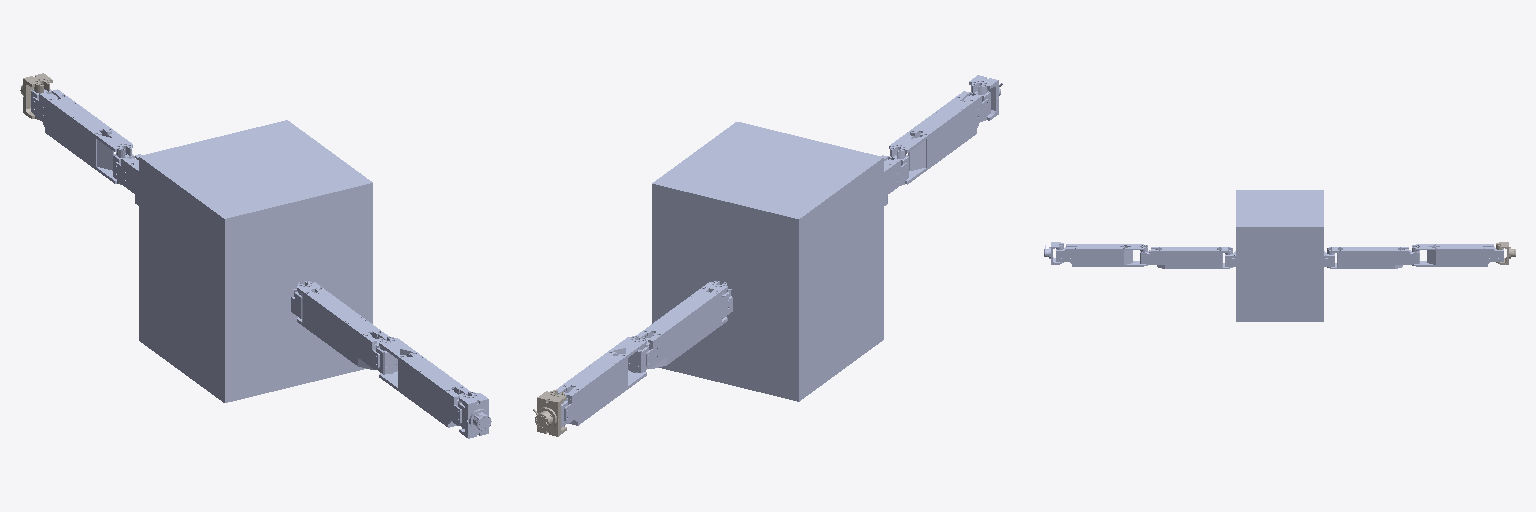
The robot description file, URDF, robot "PFR_Arm2":
<?xml version="1.0" encoding="utf-8"?>
<!-- This URDF was automatically created by SolidWorks to URDF Exporter! Originally created by Stephen Brawner (brawner@gmail.com) 
     Commit Version: 1.6.0-4-g7f85cfe  Build Version: 1.6.7995.38578
     For more information, please see http://wiki.ros.org/sw_urdf_exporter -->
<robot
  name="PFR_Arm2">
  <link
    name="world" />
  <joint
    name="world_to_base"
    type="floating">
    <origin
      xyz="0 0 0"
      rpy="0 0 0" />
    <parent
      link="world" />
    <child
      link="base_link" />
  </joint>
  <link
    name="base_link">
  <inertial>
    <origin
      xyz="2.67023784161503E-17 1.38748955932851E-17 0.185886916570362"
      rpy="0 0 0" />

    <mass
      value="9.4" />

    <inertia
      ixx="0.184014"
      ixy="-4.733E-14"
      ixz="-1.276E-18"
      iyy="0.183998"
      iyz="9.548E-22"
      izz="0.153096" />
  </inertial>
    <visual>
      <origin
        xyz="0 0 0"
        rpy="0 0 0" />
      <geometry>
        <mesh
          filename="package://PFR_Arm2/meshes/base_link.STL" />
      </geometry>
      <material
        name="">
        <color
          rgba="0.792156862745098 0.819607843137255 0.933333333333333 1" />
      </material>
    </visual>
    <collision>
      <origin
        xyz="0 0 0"
        rpy="0 0 0" />
      <geometry>
        <mesh
          filename="package://PFR_Arm2/meshes/base_link.STL" />
      </geometry>
    </collision>
  </link>
  <link
    name="joint1_R">
<inertial>
  <origin
    xyz="-9.31857326154312E-11 -0.195378541069816 0.00672546665364099"
    rpy="0 0 0" />
  <mass
    value="0.610933607210843" />
  <inertia
    ixx="0.002606149973"
    ixy="-8.759503414E-12"
    ixz="2.079170554E-12"
    iyy="0.000290799751"
    iyz="2.796985513E-05"
    izz="0.002521988319" />
</inertial>
    <visual>
      <origin
        xyz="0 0 0"
        rpy="0 0 0" />
      <geometry>
        <mesh
          filename="package://PFR_Arm2/meshes/Joint1_R.STL" />
      </geometry>
      <material
        name="">
        <color
          rgba="0.792156862745098 0.819607843137255 0.933333333333333 1" />
      </material>
    </visual>
    <collision>
      <origin
        xyz="0 0 0"
        rpy="0 0 0" />
      <geometry>
        <mesh
          filename="package://PFR_Arm2/meshes/Joint1_R.STL" />
      </geometry>
    </collision>
  </link>
  <joint
    name="joint1_R"
    type="revolute">
    <origin
      xyz="0 -0.18175 0.174"
      rpy="0 0 0" />
    <parent
      link="base_link" />
    <child
      link="joint1_R" />
    <axis
      xyz="0 0 -1" />
    <limit
      lower="-1.57079632679"
      upper="1.57079632679"
      effort="10"
      velocity="10" />
    <dynamics
      damping="0.02" />
  </joint>
  <link
    name="joint2_R">
  <inertial>
    <origin
      xyz="-8.81578836366647E-10 -0.205753132187302 0.00699863753540647"
      rpy="0 0 0" />
    <mass
      value="0.524093067317941" />
    <inertia
      ixx="0.002262706481047"
      ixy="5.393149924E-11"
      ixz="1.328143582E-11"
      iyy="0.000266808394608"
      iyz="-5.951057304E-06"
      izz="0.002161333435478" />
  </inertial>
    <visual>
      <origin
        xyz="0 0 0"
        rpy="0 0 0" />
      <geometry>
        <mesh
          filename="package://PFR_Arm2/meshes/Joint2_R.STL" />
      </geometry>
      <material
        name="">
        <color
          rgba="0.792156862745098 0.819607843137255 0.933333333333333 1" />
      </material>
    </visual>
    <collision>
      <origin
        xyz="0 0 0"
        rpy="0 0 0" />
      <geometry>
        <mesh
          filename="package://PFR_Arm2/meshes/Joint2_R.STL" />
      </geometry>
    </collision>
  </link>
  <joint
    name="joint2_R"
    type="revolute">
    <origin
      xyz="0 -0.3 0.00950000000000006"
      rpy="0 0 0" />
    <parent
      link="joint1_R" />
    <child
      link="joint2_R" />
    <axis
      xyz="0 0 -1" />
    <limit
      lower="-2.61799387799"
      upper="2.61799387799"
      effort="10"
      velocity="10" />
    <dynamics
      damping="0.02" />
  </joint>
  <link
    name="joint3_R">
  <inertial>
    <origin
      xyz="7.37750807914593E-05 0.0311442464401742 0.00549599281689406"
      rpy="0 0 0" />
    <mass
      value="0.2882871164231278" />
    <inertia
      ixx="1.1973444596E-04"
      ixy="-1.6349251489E-07"
      ixz="-3.6097973354E-07"
      iyy="1.3130622303E-04"
      iyz="4.3006438864E-06"
      izz="5.3818913752E-05" />
  </inertial>
    <visual>
      <origin
        xyz="0 0 0"
        rpy="0 0 0" />
      <geometry>
        <mesh
          filename="package://PFR_Arm2/meshes/Joint3_R.STL" />
      </geometry>
      <material
        name="">
        <color
          rgba="0.792156862745098 0.819607843137255 0.933333333333333 1" />
      </material>
    </visual>
    <collision>
      <origin
        xyz="0 0 0"
        rpy="0 0 0" />
      <geometry>
        <mesh
          filename="package://PFR_Arm2/meshes/Joint3_R.STL" />
      </geometry>
    </collision>
  </link>
  <joint
    name="joint3_R"
    type="revolute">
    <origin
      xyz="0 -0.3 0.00949999999999965"
      rpy="0 0 0" />
    <parent
      link="joint2_R" />
    <child
      link="joint3_R" />
    <axis
      xyz="0 0 -1" />
    <limit
      lower="-1.57079632679"
      upper="1.57079632679"
      effort="10"
      velocity="10" />
    <dynamics
      damping="0.02" />
  </joint>
  <link
    name="joint1_L">
  <inertial>
    <origin
      xyz="-9.31857326154312E-11 -0.195378541069816 0.00672546665364099"
      rpy="0 0 0" />
    <mass
      value="0.610933607210843" />
    <inertia
      ixx="0.002606149973"
      ixy="-8.759503414E-12"
      ixz="2.079170554E-12"
      iyy="0.000290799751"
      iyz="2.796985513E-05"
      izz="0.002521988319" />
  </inertial>
    <visual>
      <origin
        xyz="0 0 0"
        rpy="0 0 0" />
      <geometry>
        <mesh
          filename="package://PFR_Arm2/meshes/Joint1_L.STL" />
      </geometry>
      <material
        name="">
        <color
          rgba="0.792156862745098 0.819607843137255 0.933333333333333 1" />
      </material>
    </visual>
    <collision>
      <origin
        xyz="0 0 0"
        rpy="0 0 0" />
      <geometry>
        <mesh
          filename="package://PFR_Arm2/meshes/Joint1_L.STL" />
      </geometry>
    </collision>
  </link>
  <joint
    name="joint1_L"
    type="revolute">
    <origin
      xyz="0 0.18175 0.174"
      rpy="0 0 0" />
    <parent
      link="base_link" />
    <child
      link="joint1_L" />
    <axis
      xyz="0 0 1" />
    <limit
      lower="-1.57079632679"
      upper="1.57079632679"
      effort="10"
      velocity="10" />
    <dynamics
      damping="0.02" />
  </joint>
  <link
    name="joint2_L">
    <inertial>
      <origin
        xyz="-8.81578836366647E-10 -0.205753132187302 0.00699863753540647"
        rpy="0 0 0" />
      <mass
        value="0.524093067317941" />
      <inertia
        ixx="0.002262706481047"
        ixy="5.393149924E-11"
        ixz="1.328143582E-11"
        iyy="0.000266808394608"
        iyz="-5.951057304E-06"
        izz="0.002161333435478" />
    </inertial>
    <visual>
      <origin
        xyz="0 0 0"
        rpy="0 0 0" />
      <geometry>
        <mesh
          filename="package://PFR_Arm2/meshes/Joint2_L.STL" />
      </geometry>
      <material
        name="">
        <color
          rgba="0.792156862745098 0.819607843137255 0.933333333333333 1" />
      </material>
    </visual>
    <collision>
      <origin
        xyz="0 0 0"
        rpy="0 0 0" />
      <geometry>
        <mesh
          filename="package://PFR_Arm2/meshes/Joint2_L.STL" />
      </geometry>
    </collision>
  </link>
  <joint
    name="joint2_L"
    type="revolute">
    <origin
      xyz="0 0.3 0.00950000000000006"
      rpy="0 0 0" />
    <parent
      link="joint1_L" />
    <child
      link="joint2_L" />
    <axis
      xyz="0 0 1" />
    <limit
      lower="-2.61799387799"
      upper="2.61799387799"
      effort="10"
      velocity="10" />
    <dynamics
      damping="0.02" />
  </joint>
  <link
    name="joint3_L">
  <inertial>
    <origin
      xyz="7.37750807914593E-05 0.0311442464401742 0.00549599281689406"
      rpy="0 0 0" />
    <mass
      value="0.2882871164231278" />
    <inertia
      ixx="1.1973444596E-04"
      ixy="-1.6349251489E-07"
      ixz="-3.6097973354E-07"
      iyy="1.3130622303E-04"
      iyz="4.3006438864E-06"
      izz="5.3818913752E-05" />
  </inertial>
    <visual>
      <origin
        xyz="0 0 0"
        rpy="0 0 0" />
      <geometry>
        <mesh
          filename="package://PFR_Arm2/meshes/Joint3_L.STL" />
      </geometry>
      <material
        name="">
        <color
          rgba="0.776470588235294 0.756862745098039 0.737254901960784 1" />
      </material>
    </visual>
    <collision>
      <origin
        xyz="0 0 0"
        rpy="0 0 0" />
      <geometry>
        <mesh
          filename="package://PFR_Arm2/meshes/Joint3_L.STL" />
      </geometry>
    </collision>
  </link>
  <joint
    name="joint3_L"
    type="revolute">
    <origin
      xyz="0 0.3 0.00949999999999965"
      rpy="0 0 0" />
    <parent
      link="joint2_L" />
    <child
      link="joint3_L" />
    <axis
      xyz="0 0 1" />
    <limit
      lower="-1.57079632679"
      upper="1.57079632679"
      effort="10"
      velocity="10" />
    <dynamics
      damping="0.02" />
  </joint>

  <!-- Right-arm Dynamixel hardware interfaces.  The same robot description is
       consumed by ros2_control, robot_state_publisher, and Pinocchio. -->
  <ros2_control name="dxl_system" type="system">
    <hardware>
      <plugin>dynamixel_hardware_interface/DynamixelHardware</plugin>

      <param name="port_name">/dev/ttyUSB0</param>
      <param name="baud_rate">1000000</param>
      <param name="error_timeout_ms">250</param>
      <param name="dynamixel_model_folder">/param/dxl_model</param>
      <param name="disable_torque_at_init">true</param>

      <param name="dynamixel_state_pub_msg_name">/dynamixel_hardware_interface/dxl_state</param>
      <param name="get_dynamixel_data_srv_name">/dynamixel_hardware_interface/get_dxl_data</param>
      <param name="set_dynamixel_data_srv_name">/dynamixel_hardware_interface/set_dxl_data</param>
      <param name="reboot_dxl_srv_name">/dynamixel_hardware_interface/reboot_dxl</param>
      <param name="set_dxl_torque_srv_name">/dynamixel_hardware_interface/set_dxl_torque</param>

      <param name="number_of_joints">3</param>
      <param name="number_of_transmissions">3</param>
      <param name="transmission_to_joint_matrix">1, 0, 0, 0, 1, 0, 0, 0, 1</param>
      <param name="joint_to_transmission_matrix">1, 0, 0, 0, 1, 0, 0, 0, 1</param>
    </hardware>

    <joint name="joint1_R">
      <command_interface name="velocity" />
      <state_interface name="position" />
      <state_interface name="velocity" />
      <state_interface name="effort" />
    </joint>
    <joint name="joint2_R">
      <command_interface name="velocity" />
      <state_interface name="position" />
      <state_interface name="velocity" />
      <state_interface name="effort" />
    </joint>
    <joint name="joint3_R">
      <command_interface name="velocity" />
      <state_interface name="position" />
      <state_interface name="velocity" />
      <state_interface name="effort" />
    </joint>

    <gpio name="dxl1">
      <param name="type">dxl</param>
      <param name="ID">1</param>
      <param name="Operating Mode">1</param>
      <command_interface name="Goal Velocity" />
      <state_interface name="Present Position" />
      <state_interface name="Present Velocity" />
      <state_interface name="Present Current" />
    </gpio>
    <gpio name="dxl2">
      <param name="type">dxl</param>
      <param name="ID">2</param>
      <param name="Operating Mode">1</param>
      <command_interface name="Goal Velocity" />
      <state_interface name="Present Position" />
      <state_interface name="Present Velocity" />
      <state_interface name="Present Current" />
    </gpio>
    <gpio name="dxl3">
      <param name="type">dxl</param>
      <param name="ID">3</param>
      <param name="Operating Mode">1</param>
      <command_interface name="Goal Velocity" />
      <state_interface name="Present Position" />
      <state_interface name="Present Velocity" />
      <state_interface name="Present Current" />
    </gpio>
  </ros2_control>
</robot>

--- What the picture shows (computed from the rendered views, not written in the file) ---
The picture shows the robot from 3 angles, left to right: view 1: azimuth 30°, elevation 25°; view 2: azimuth 150°, elevation 25°; view 3: azimuth 270°, elevation 25°; orthographic projection.
Robot: PFR_Arm2 — 8 links, 7 joints (6 revolute, 1 floating); root link world; default pose: every joint at zero.
Visible links, largest first — view 1: base_link, joint1_R, joint2_L, joint2_R, joint3_R, joint1_L, joint3_L; view 2: base_link, joint1_L, joint2_R, joint2_L, joint3_L, joint1_R, joint3_R; view 3: base_link, joint2_R, joint2_L, joint1_R, joint1_L.
Boxes of the visible links, bbox=[...] form: base_link: bbox=[139, 120, 372, 402]; joint1_R: bbox=[297, 281, 397, 374]; joint2_L: bbox=[31, 89, 132, 184]; joint2_R: bbox=[379, 336, 470, 428]; joint3_R: bbox=[459, 392, 491, 438]; joint1_L: bbox=[113, 153, 141, 205]; joint3_L: bbox=[20, 73, 52, 119]; base_link: bbox=[652, 122, 883, 401]; joint1_L: bbox=[628, 281, 727, 372]; joint2_R: bbox=[889, 91, 990, 185]; joint2_L: bbox=[556, 335, 646, 427]; joint3_L: bbox=[533, 390, 566, 436]; joint1_R: bbox=[881, 155, 908, 205]; joint3_R: bbox=[969, 75, 1002, 121]; base_link: bbox=[1225, 190, 1334, 321]; joint2_R: bbox=[1056, 244, 1147, 266]; joint2_L: bbox=[1412, 244, 1503, 266]; joint1_R: bbox=[1140, 247, 1232, 268]; joint1_L: bbox=[1327, 247, 1419, 268].
Size in the robot's own frame: 0.314 by 1.67 by 0.372 metres.
7 mesh visuals loaded from 7 distinct referenced files (7 binary STL).
